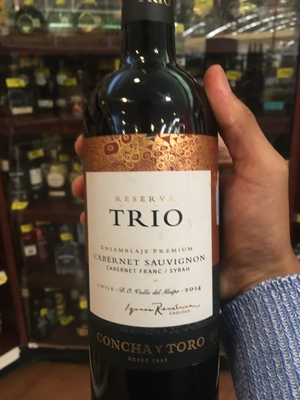trio cabernet sauvignon: (73, 19, 245, 388)
